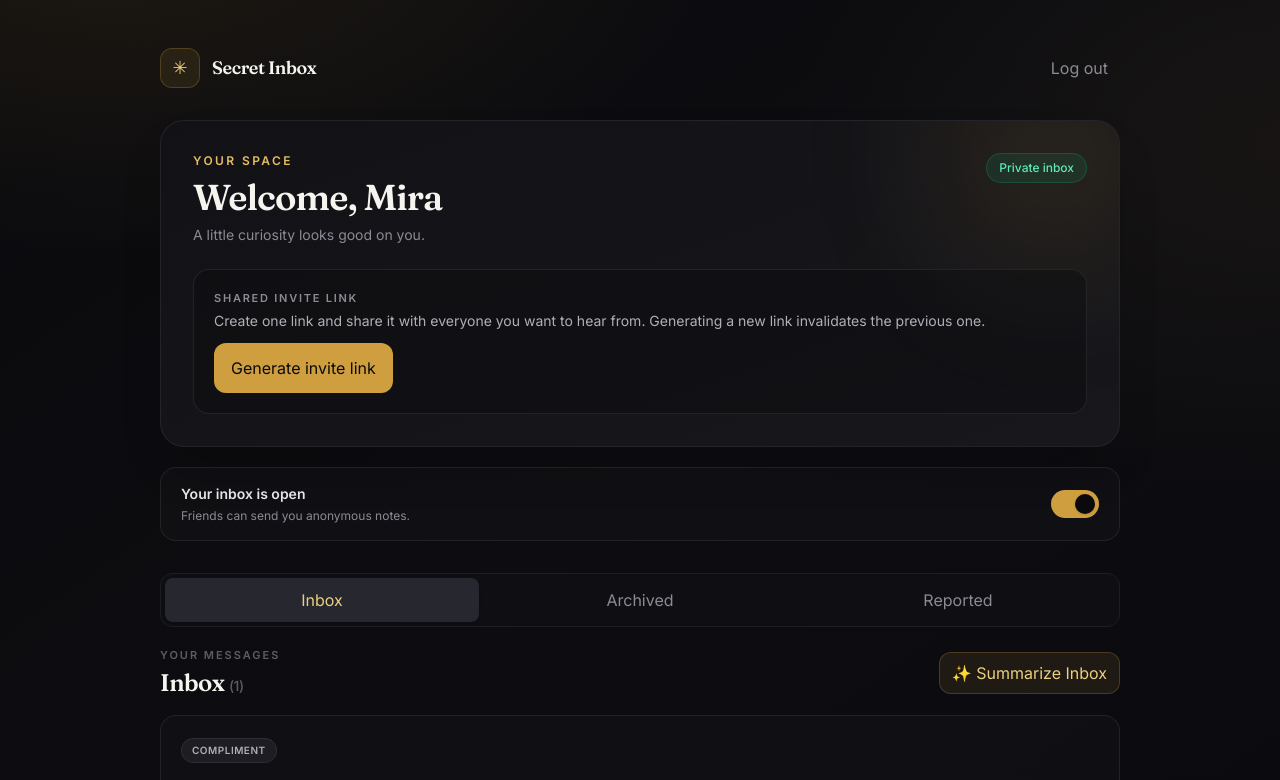
Test case: inbox dashboard › creates and copies a shared invite link
Expected: the heading "Welcome, Mira" is shown, [193,177,442,217]
Click the button "Generate invite link".
click(303, 368)  # box [214,342,393,392]
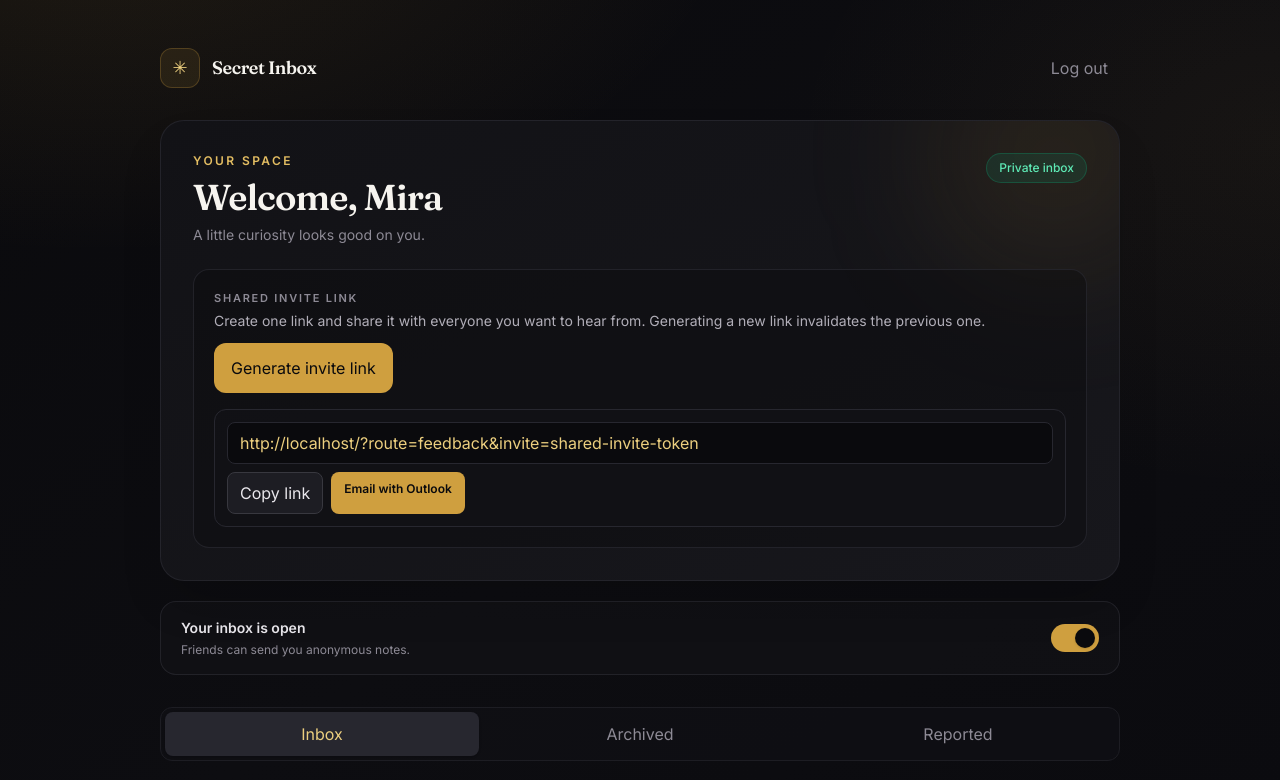
Click the button "Copy link".
click(275, 492)  # box [227,472,323,514]
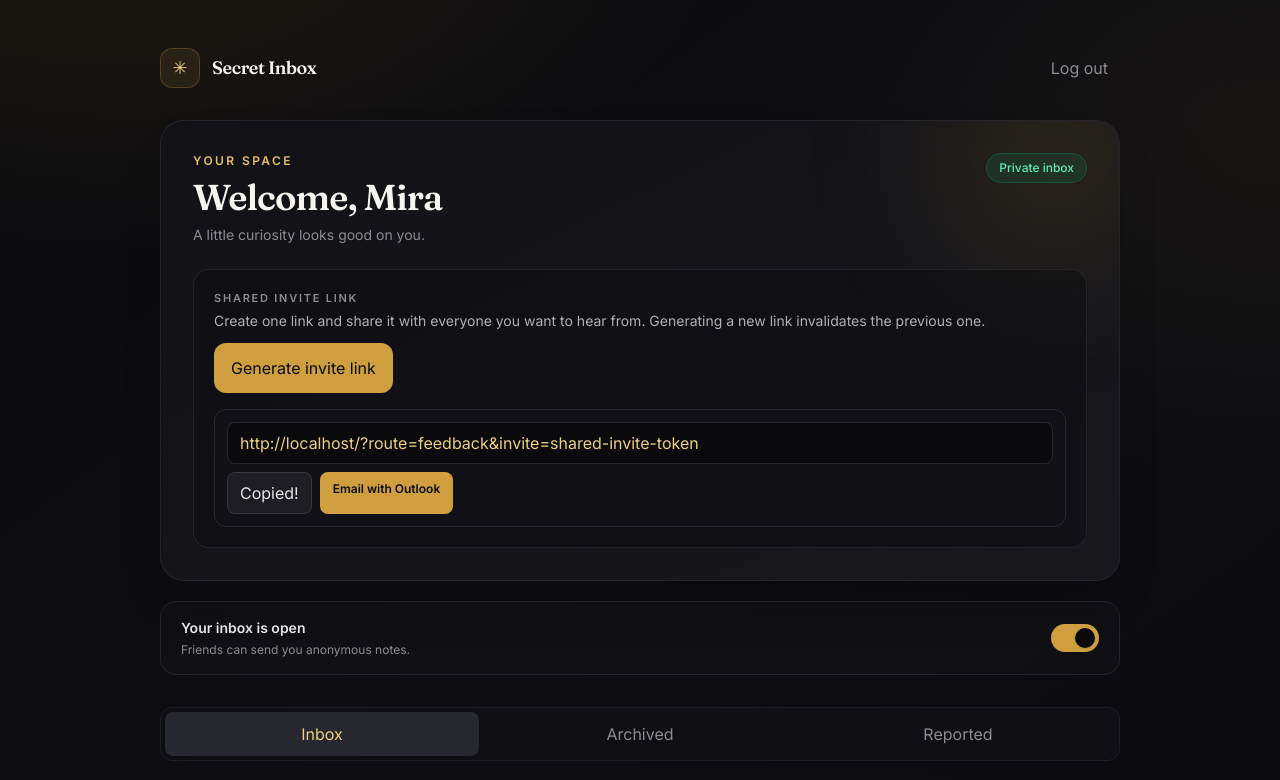
Result: the button "Copied!" is shown at [227,472,312,514]
